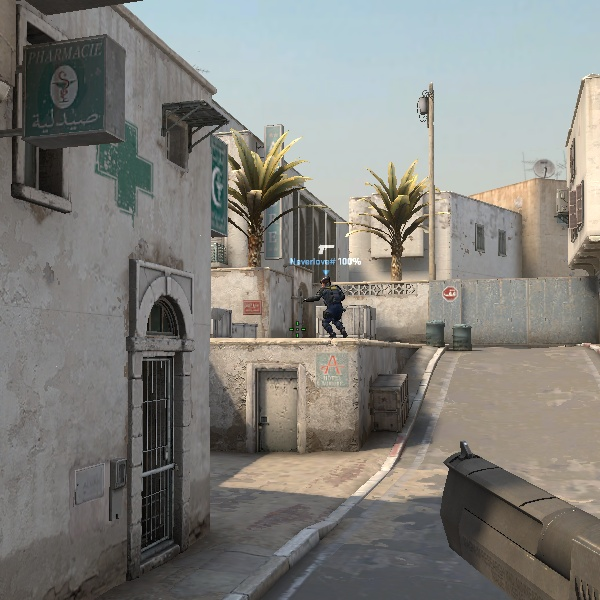ct_body: (310, 277, 345, 338)
ct_head: (320, 277, 332, 289)
